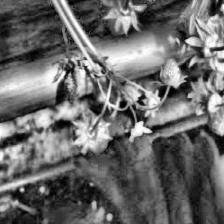Gray Mold: (59, 53, 89, 106)
